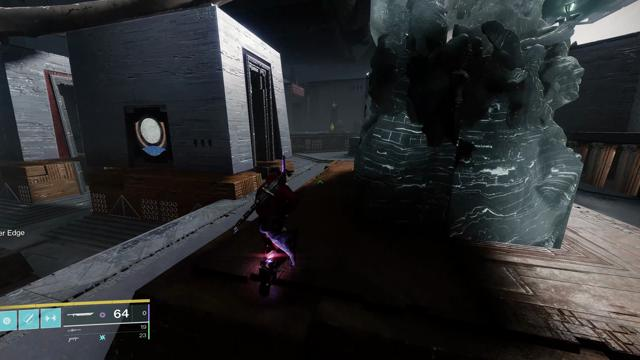traveler: (133, 115, 168, 157)
